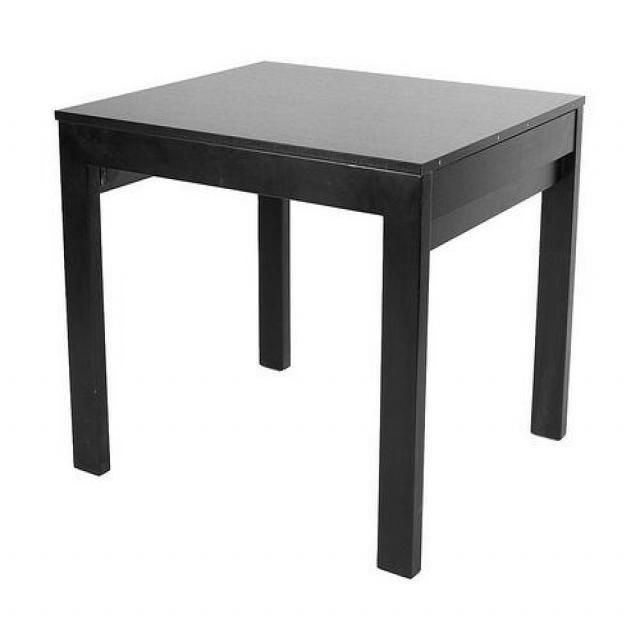table: (54, 58, 588, 580)
